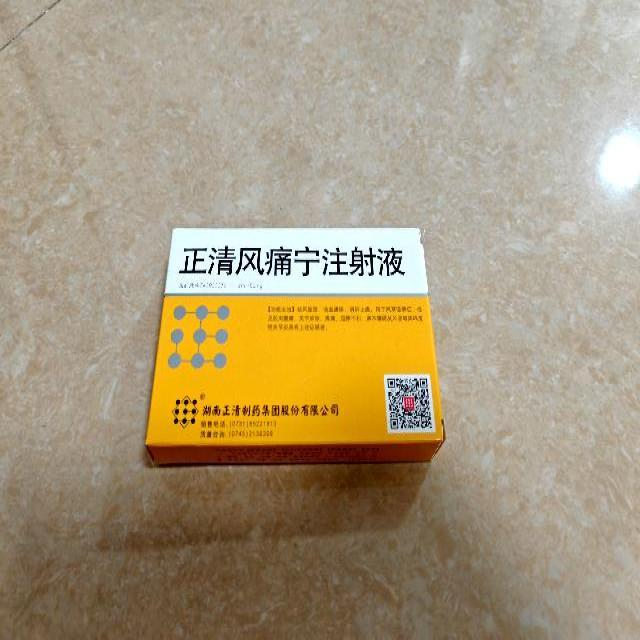box: (144, 225, 446, 466)
